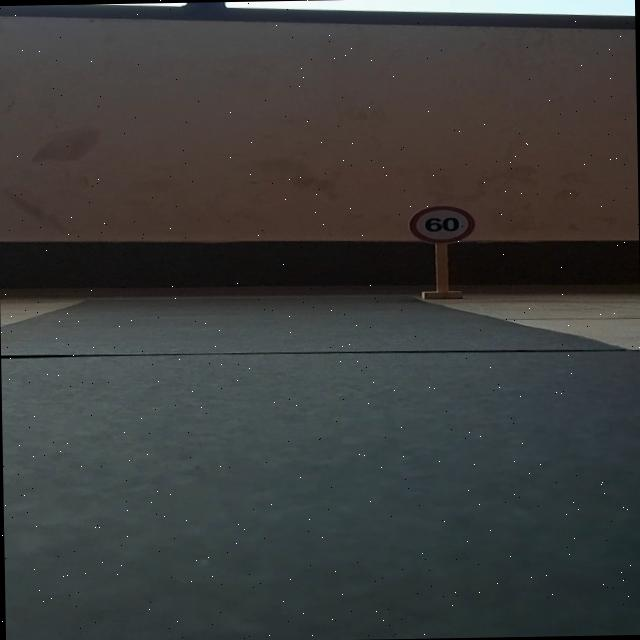Speed60: (399, 202, 479, 243)
